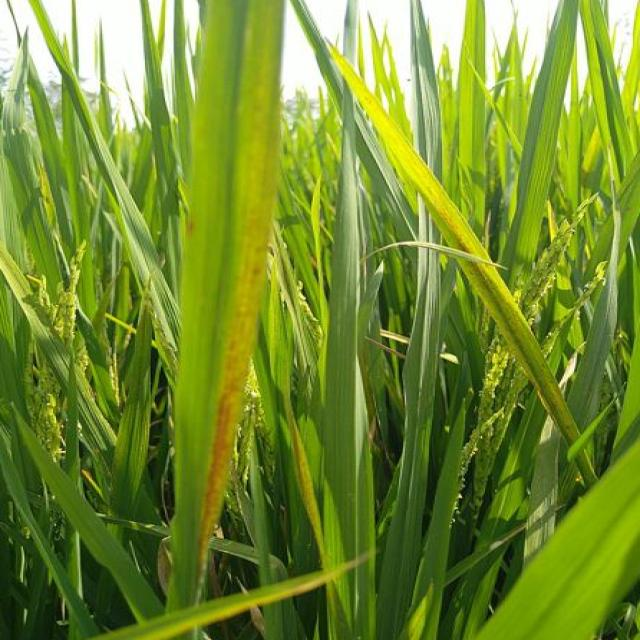Leaf Streak: (339, 60, 575, 448), (198, 0, 282, 573)
